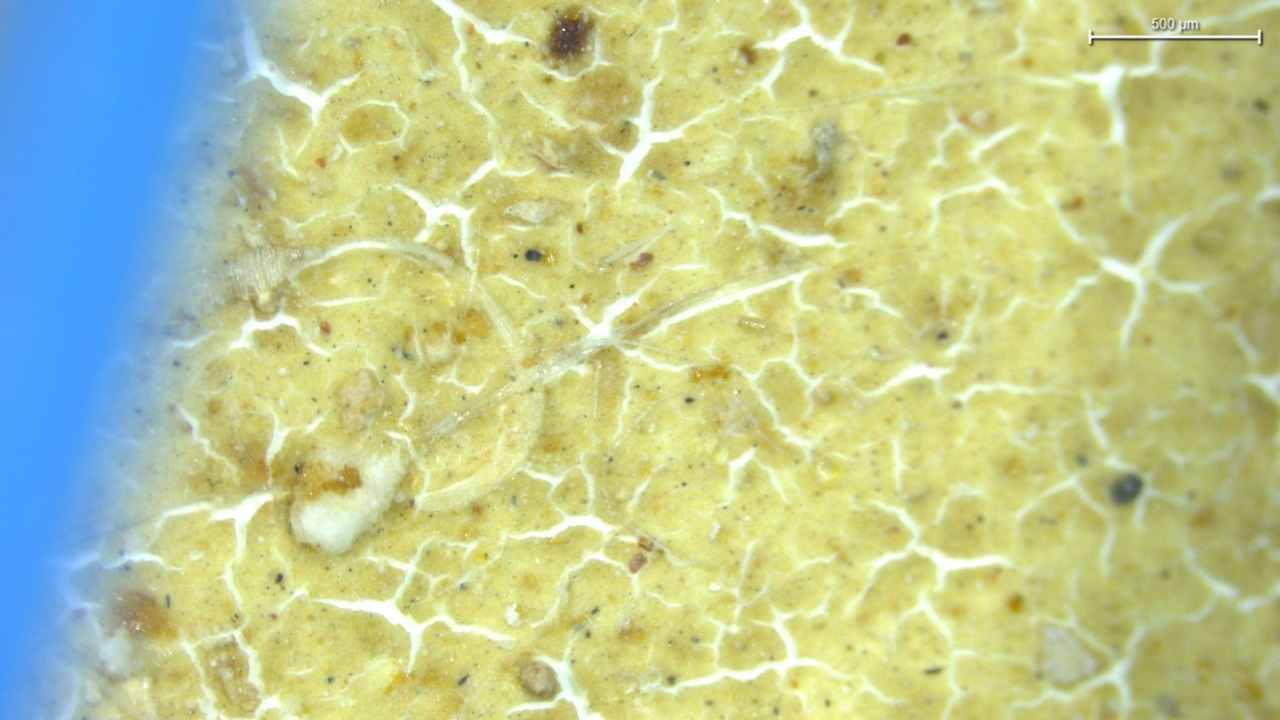microplastic_fragment: (290, 442, 412, 556)
